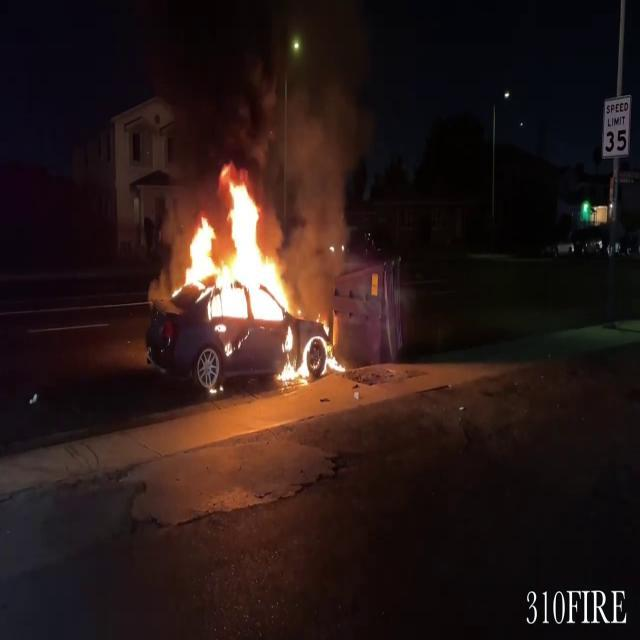Fire: (172, 162, 344, 387)
Smoke: (258, 2, 370, 262)
